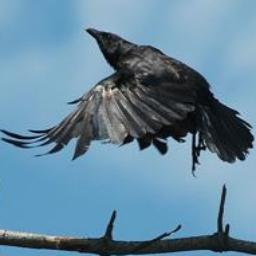Crow: (0, 25, 251, 178)
